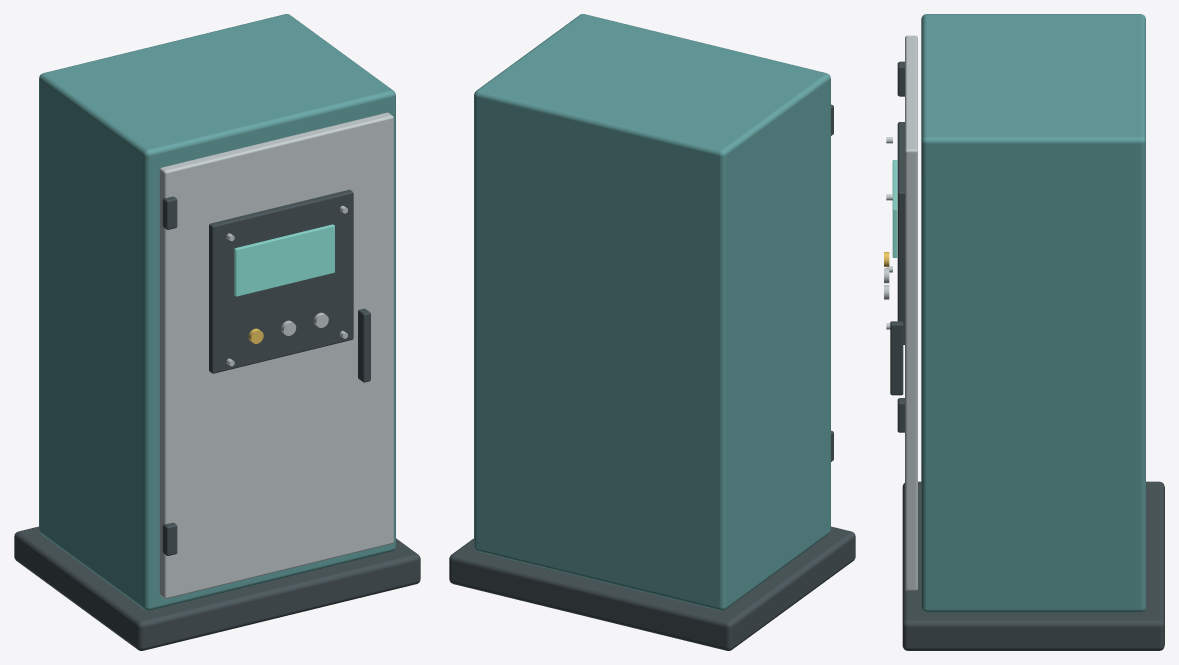
The model's file is hydroelectric-dam-infiltration-governor-cabinet-8f4d3cc0__29347.glb.
3 renders of one model, left to right at view 1: azimuth 30°, elevation 25°; view 2: azimuth 150°, elevation 25°; view 3: azimuth 270°, elevation 25°, orthographic. The views are drawn at different scales.
Visible parts, largest first — view 1: governor-cabinet; view 2: governor-cabinet; view 3: governor-cabinet.
Part boxes in pixels (box(x1,y1,x2,y2)): governor-cabinet: box(14, 14, 420, 650); governor-cabinet: box(449, 14, 855, 650); governor-cabinet: box(884, 14, 1164, 650).
Bounding box in the file's own units: 0.9001 × 1.49 × 0.749.
